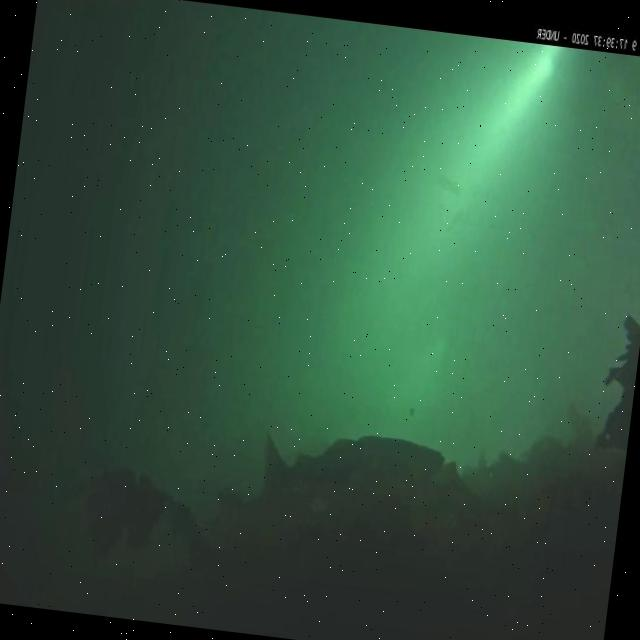fish: (254, 422, 445, 516)
